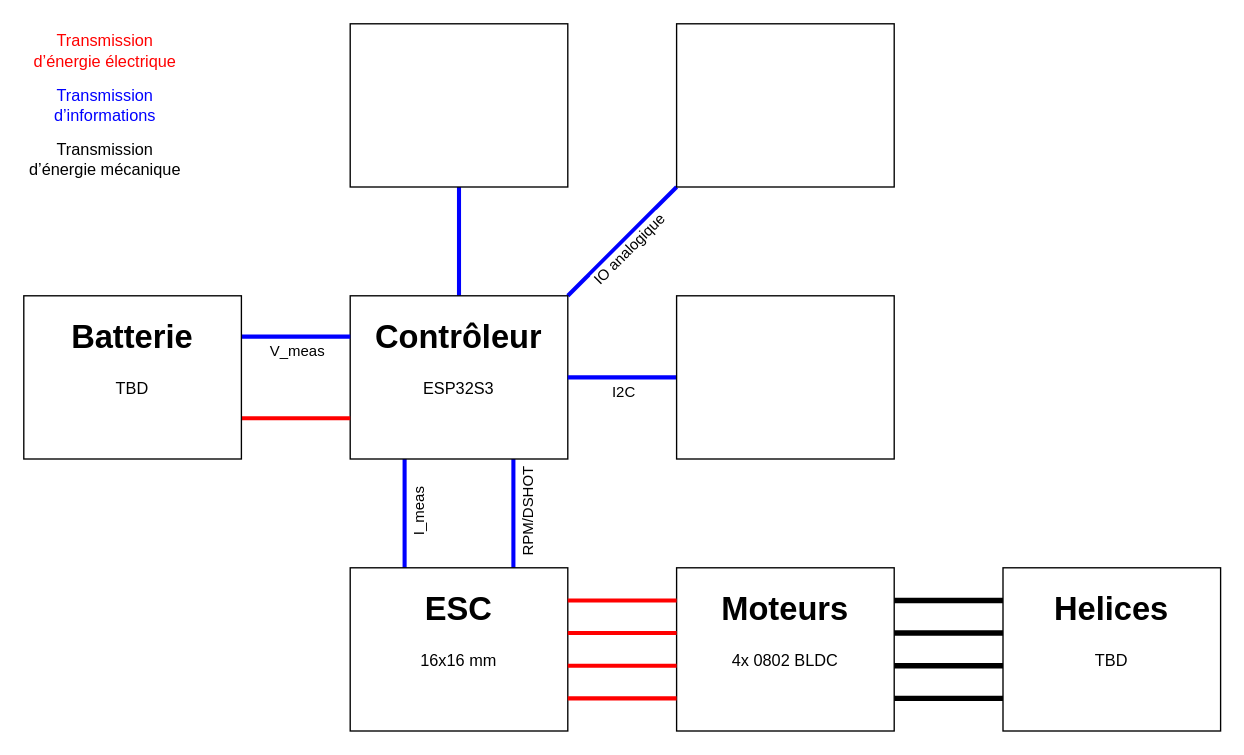
The diagram is 1244 pixels wide and 755 high, and some of its shapes have lost their labels. Each missing label, with the centre of its shape:
Capteur IR 3x TBD: the point at 784,104
IMU TBD: the point at 784,376
Interface sans fil: the point at 458,104
